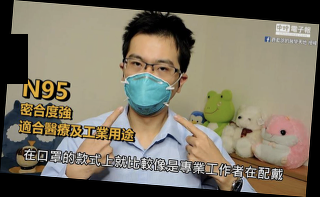with_mask: (122, 54, 179, 116)
